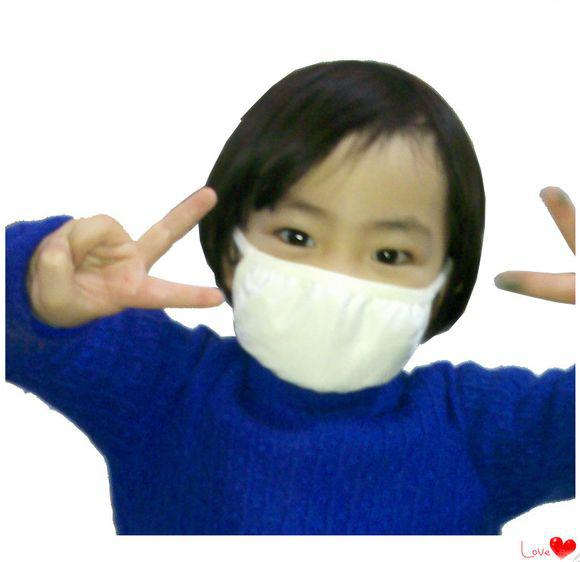OK: (244, 185, 451, 392)
